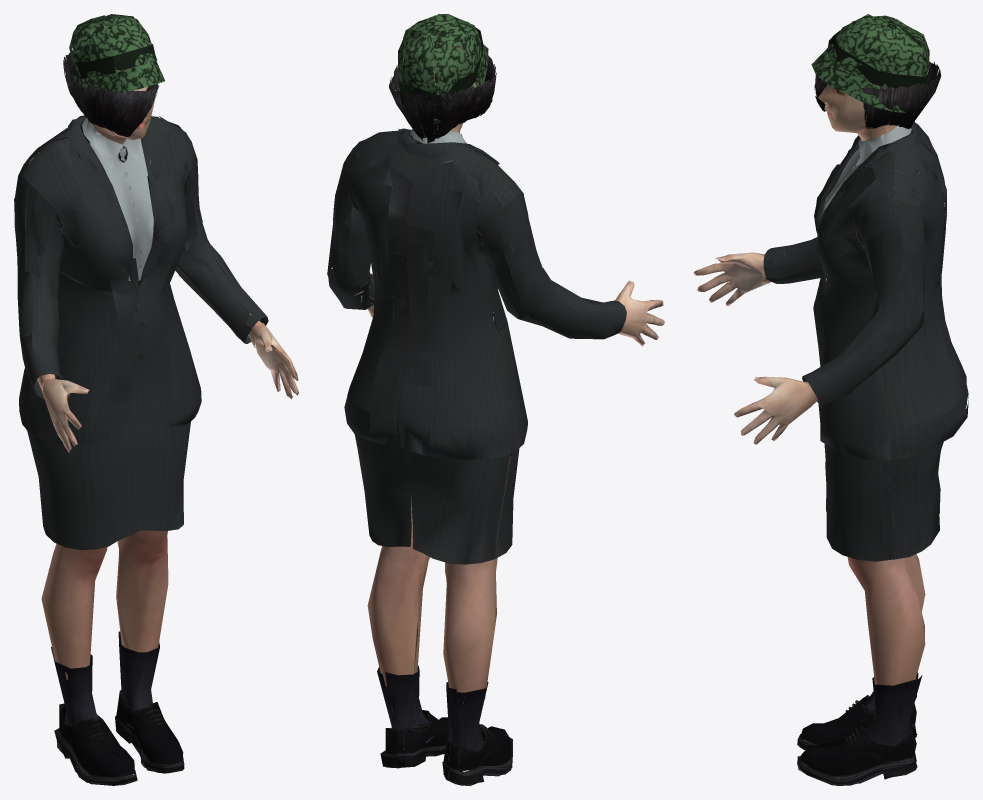
The picture shows the model from 3 angles, left to right: view 1: azimuth 30°, elevation 25°; view 2: azimuth 150°, elevation 25°; view 3: azimuth 270°, elevation 25°; orthographic projection. The views are drawn at different scales.
Visible parts, largest first — view 1: Modell; view 2: Modell; view 3: Modell.
Boxes of the visible parts, box(x1,y1,x2,y2) form: Modell: box(14, 14, 298, 785); Modell: box(327, 14, 664, 785); Modell: box(693, 14, 968, 785).
Size of the model in its own units: 0.6304 by 1.76 by 0.5902.
7 materials, 7 textured.
